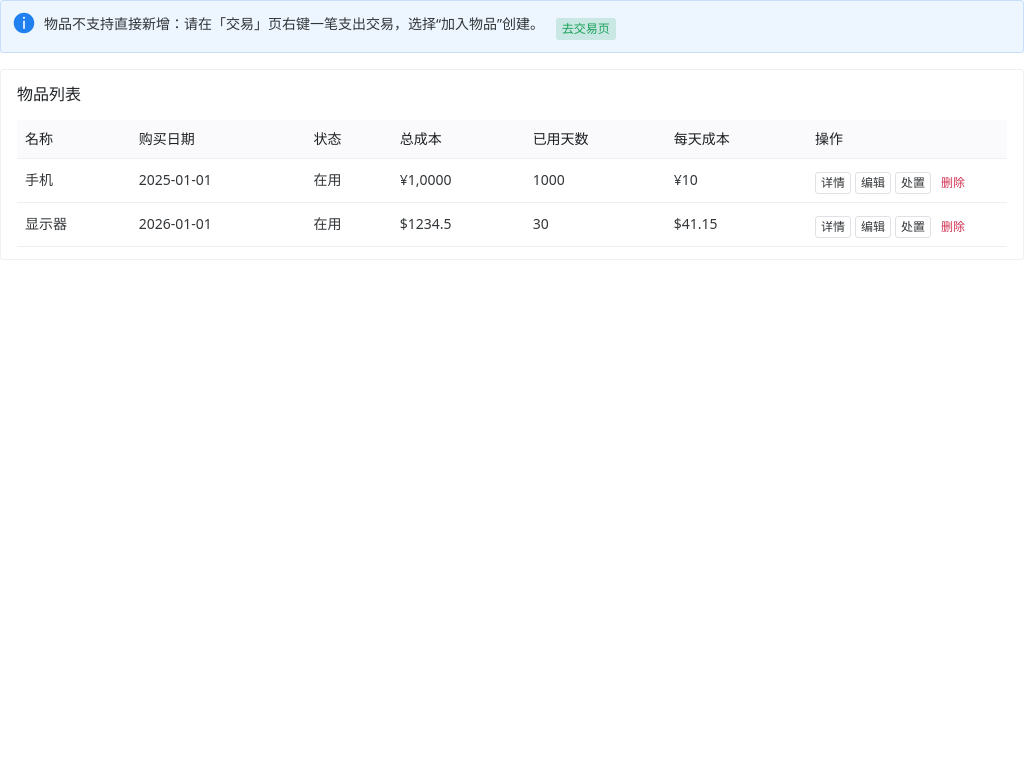
it: ItemsView 物品编辑（issue #117） › 修改后保存：update_item 收到按 id 与整数分入参，列表重拉可见新名称
Click the button "编辑" in the row of "手机" at (873, 183), box [855,172,891,194]
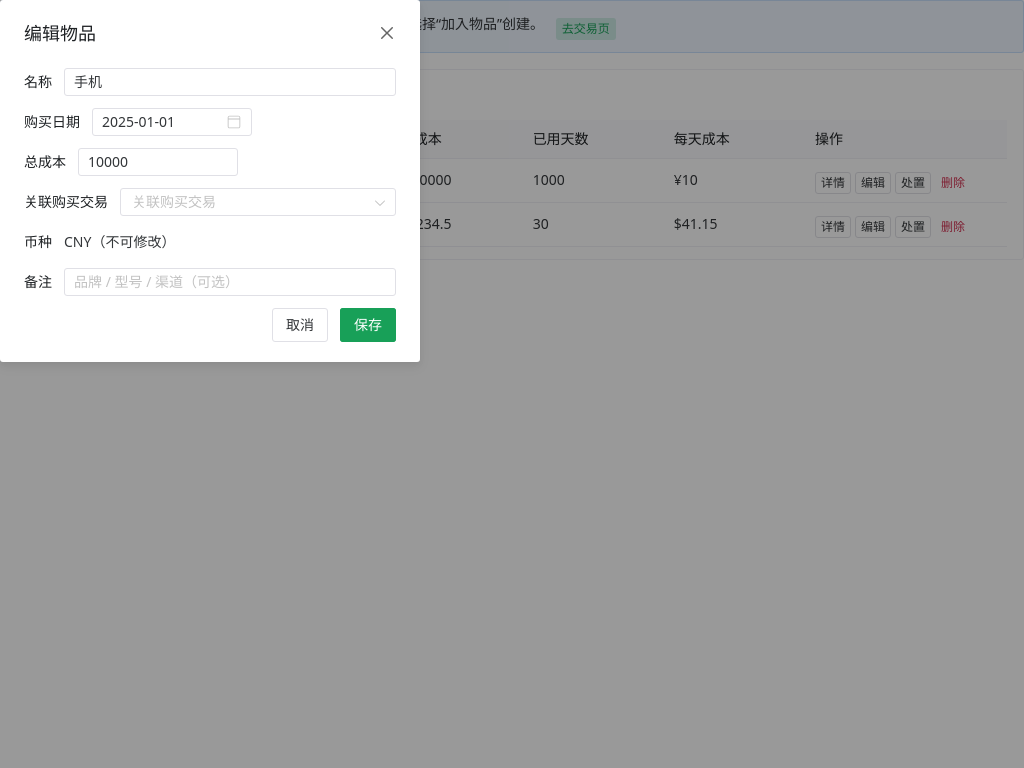
Replace the text in the 1st field with placeholder "物品名称" with "手机 Pro" at (230, 82), box [74,68,386,96]
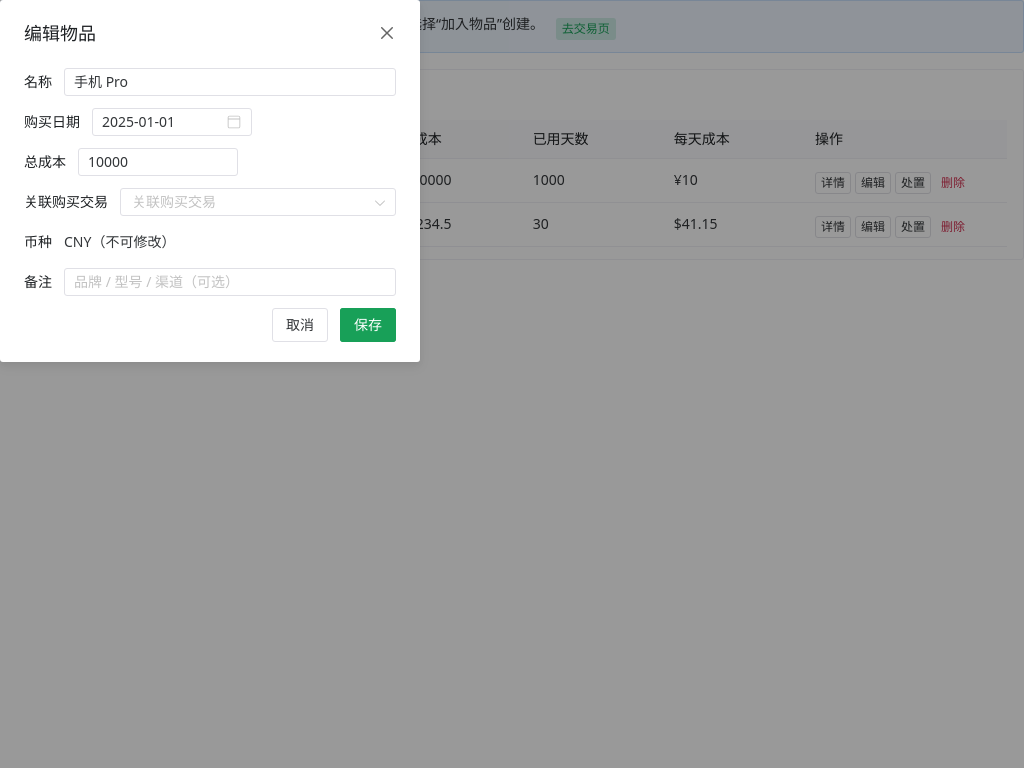
Replace the text in the 3rd field with placeholder "总成本（元）" with "12000" at (158, 162), box [88,148,228,176]
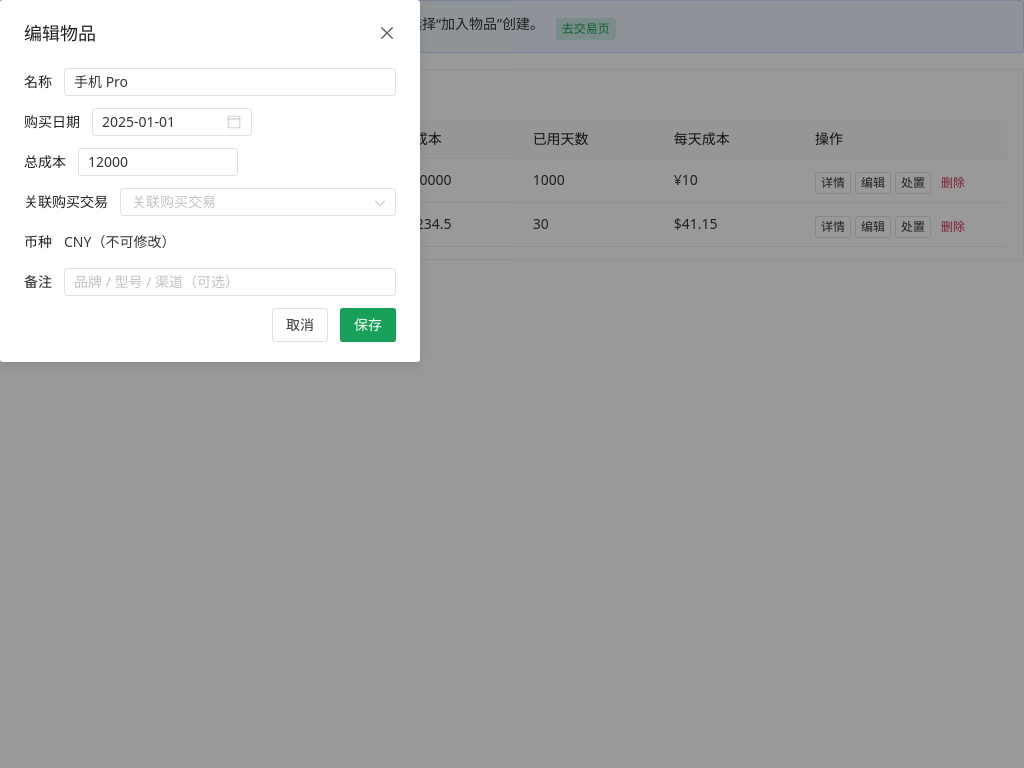
Type "顶配" into the field with placeholder "品牌 / 型号 / 渠道（可选）" at (230, 282), box [74,268,386,296]
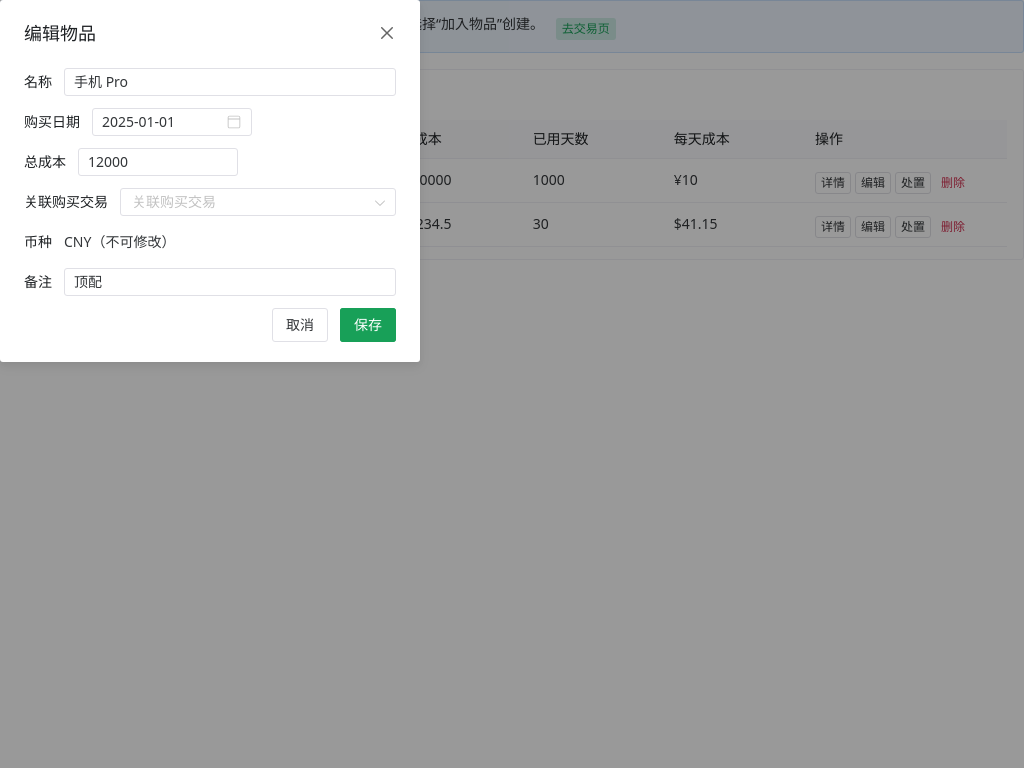
Click the button "保存" at (368, 325), box [340,308,396,342]
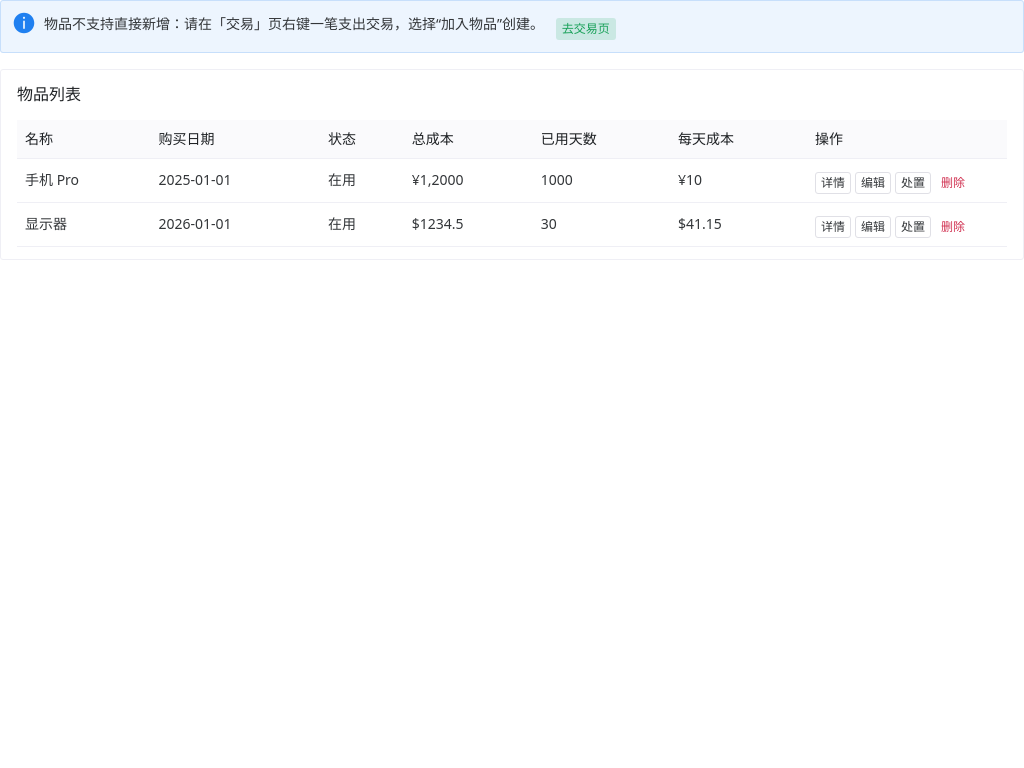
Result: the cell "手机 Pro" is shown at [17,159,150,203]
Result: the text "手机 Pro" is shown at [17,159,150,203]
